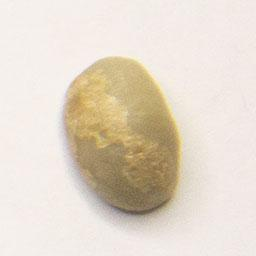longberry: (56, 52, 185, 216)
